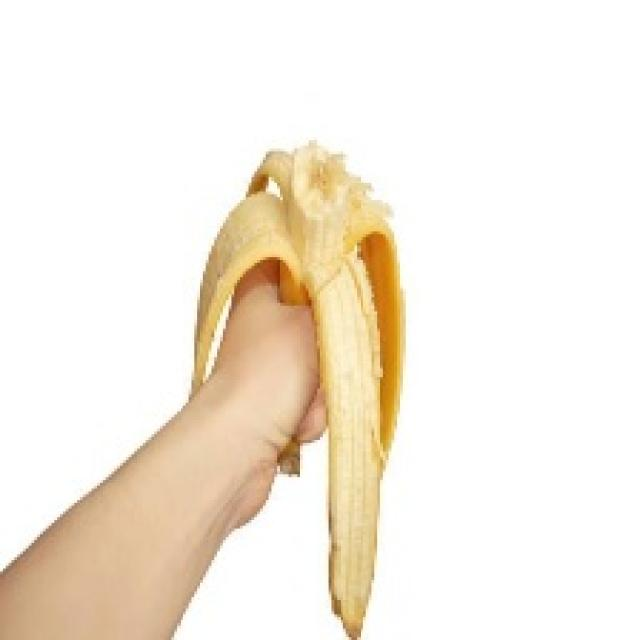Banana: (188, 137, 406, 637)
